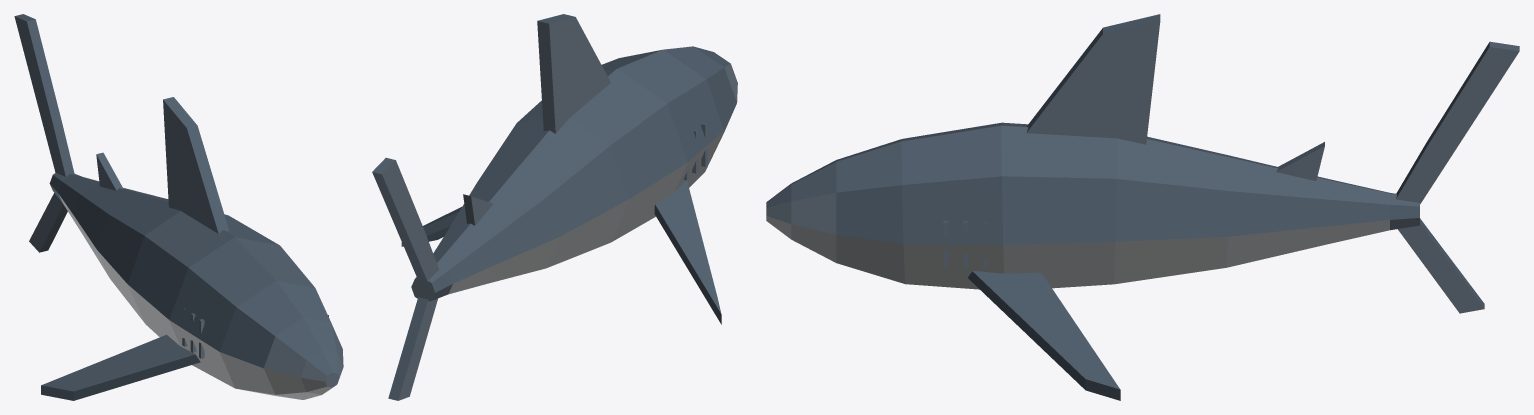
The model's file is Shark.glb.
3 renders of one model, left to right at view 1: azimuth 30°, elevation 25°; view 2: azimuth 150°, elevation 25°; view 3: azimuth 270°, elevation 25°, orthographic. The views are drawn at different scales.
Parts seen in each view (by area): view 1: Shark; view 2: Shark; view 3: Shark.
Part boxes in pixels (x1,y1,x2,y2): Shark: (14, 14, 343, 400); Shark: (372, 14, 737, 400); Shark: (766, 14, 1519, 400).
Bounding box in the file's own units: 1.6 × 1.33 × 3.02.
